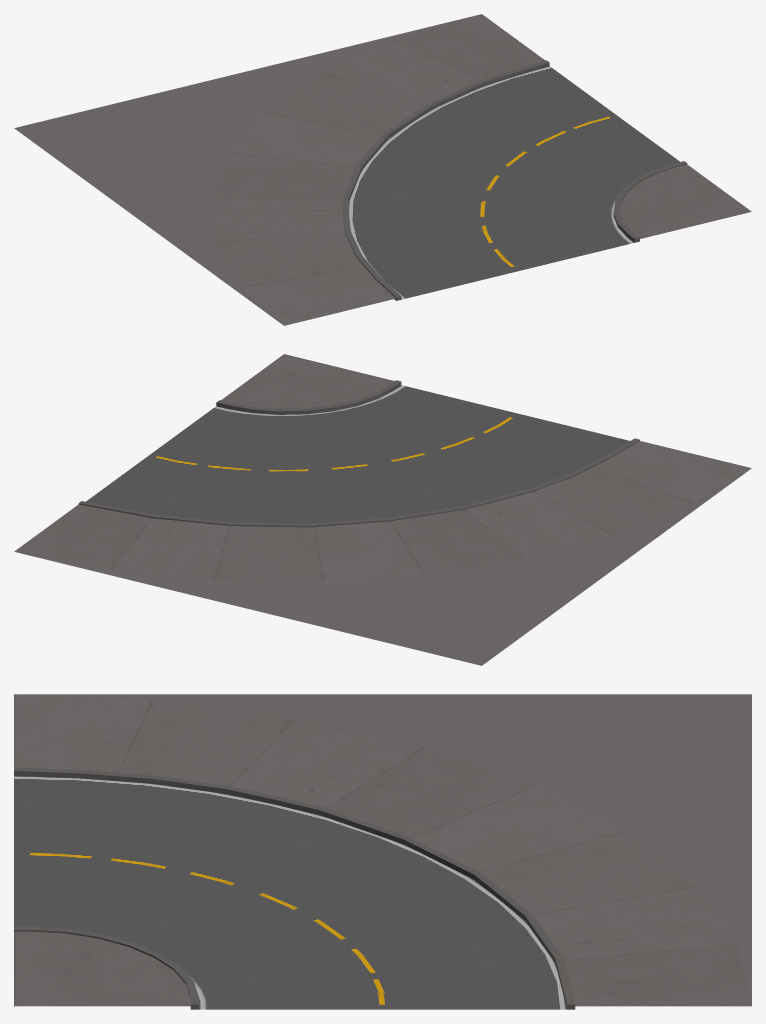
The model's file is SM_Floor_Road_05.fbx.
3 renders of one model, top to bottom at view 1: azimuth 30°, elevation 25°; view 2: azimuth 150°, elevation 25°; view 3: azimuth 270°, elevation 25°, orthographic. The views are drawn at different scales.
Visible parts, largest first — view 1: SM_Floor_Road_05; view 2: SM_Floor_Road_05; view 3: SM_Floor_Road_05.
Part boxes in pixels (<box>): SM_Floor_Road_05: <box>14,14,751,325</box>; SM_Floor_Road_05: <box>14,354,751,665</box>; SM_Floor_Road_05: <box>14,694,751,1009</box>.
Bounding box in the file's own units: 10 × 0.0784 × 10.
